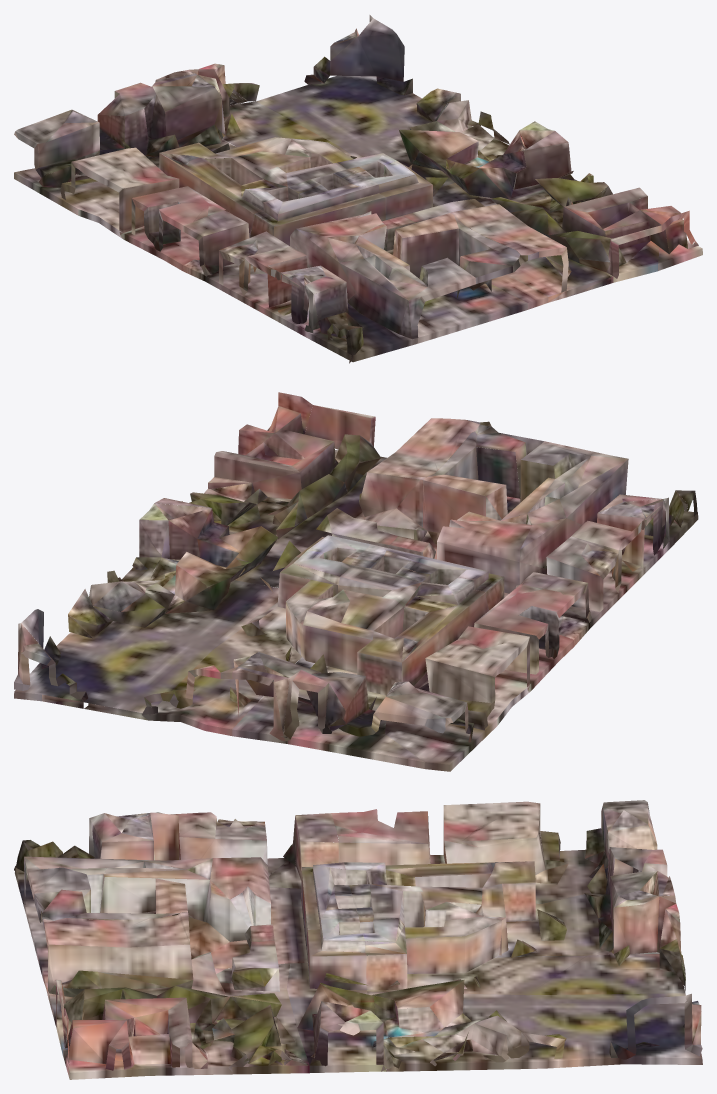
3 renders of one model, top to bottom at view 1: azimuth 30°, elevation 25°; view 2: azimuth 150°, elevation 25°; view 3: azimuth 270°, elevation 25°, orthographic. The views are drawn at different scales.
Visible parts, largest first — view 1: Mesh_0; view 2: Mesh_0; view 3: Mesh_0.
Part boxes in pixels (bbox=[...]): Mesh_0: bbox=[14, 15, 702, 363]; Mesh_0: bbox=[14, 392, 698, 771]; Mesh_0: bbox=[14, 800, 702, 1079].
Size of the model in its own units: 266 by 41.84 by 330.
2 materials, 2 textured.
